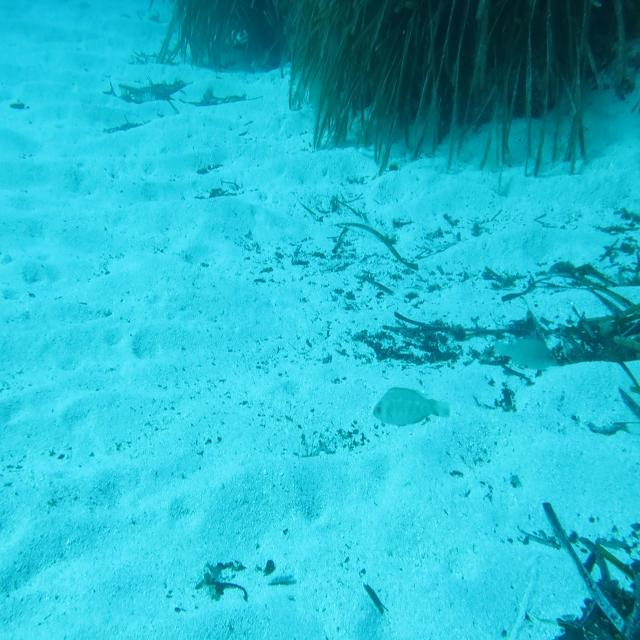BN: (372, 380, 450, 439)
female: (490, 335, 556, 371)
